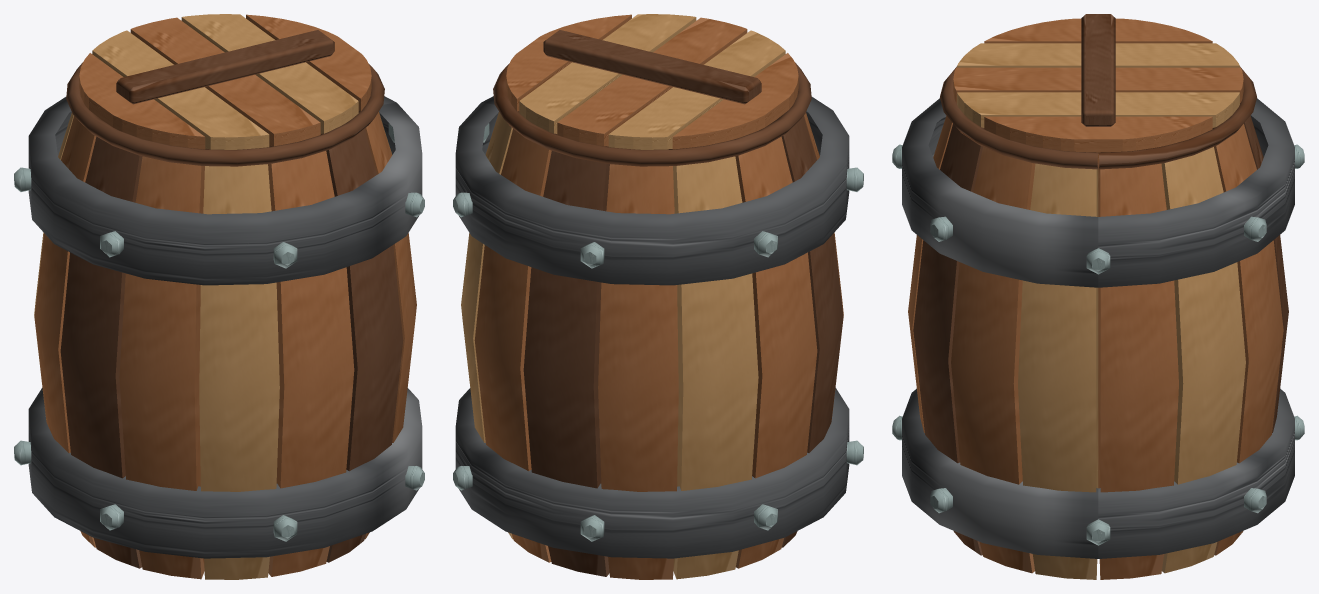
Rendered from SM_Barrel_Small.glb.
3 views of the same model, side by side, from view 1: azimuth 30°, elevation 25°; view 2: azimuth 150°, elevation 25°; view 3: azimuth 270°, elevation 25° (orthographic).
Visible parts, largest first — view 1: SM_Barrel_Small; view 2: SM_Barrel_Small; view 3: SM_Barrel_Small.
Boxes of the visible parts, x1=… form: SM_Barrel_Small: x1=14, y1=14, x2=424, y2=579; SM_Barrel_Small: x1=453, y1=14, x2=863, y2=579; SM_Barrel_Small: x1=892, y1=14, x2=1304, y2=579.
Bounding box in the file's own units: 0.5378 × 0.6645 × 0.5457.
1 material, 1 textured.
